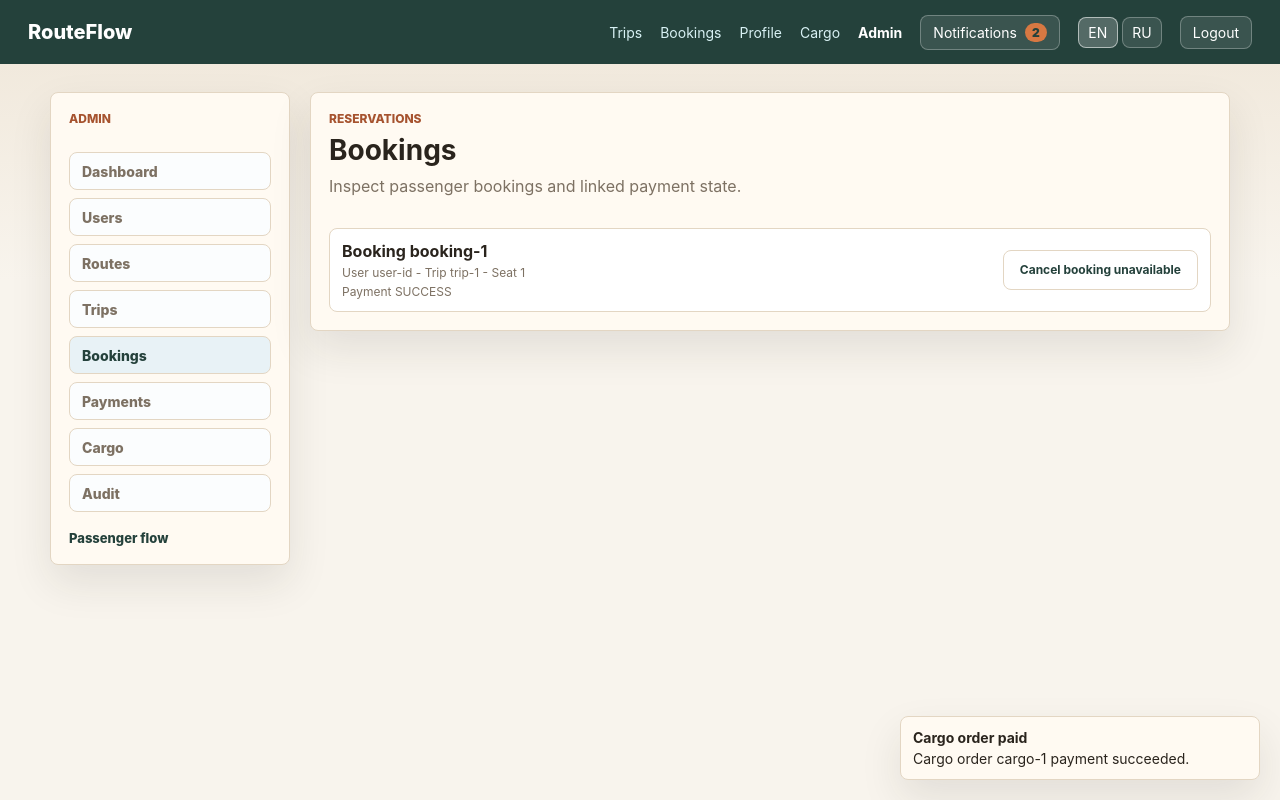
Scenario: App routes › shows admin bookings, payments, cargo, and audit sections
Expected: the heading "Bookings" is shown, [329,133,456,167]
Expected: the text "Booking booking-1" is shown, [342,241,488,261]
Click the link "Payments" at (170, 401), box [69,382,271,420]
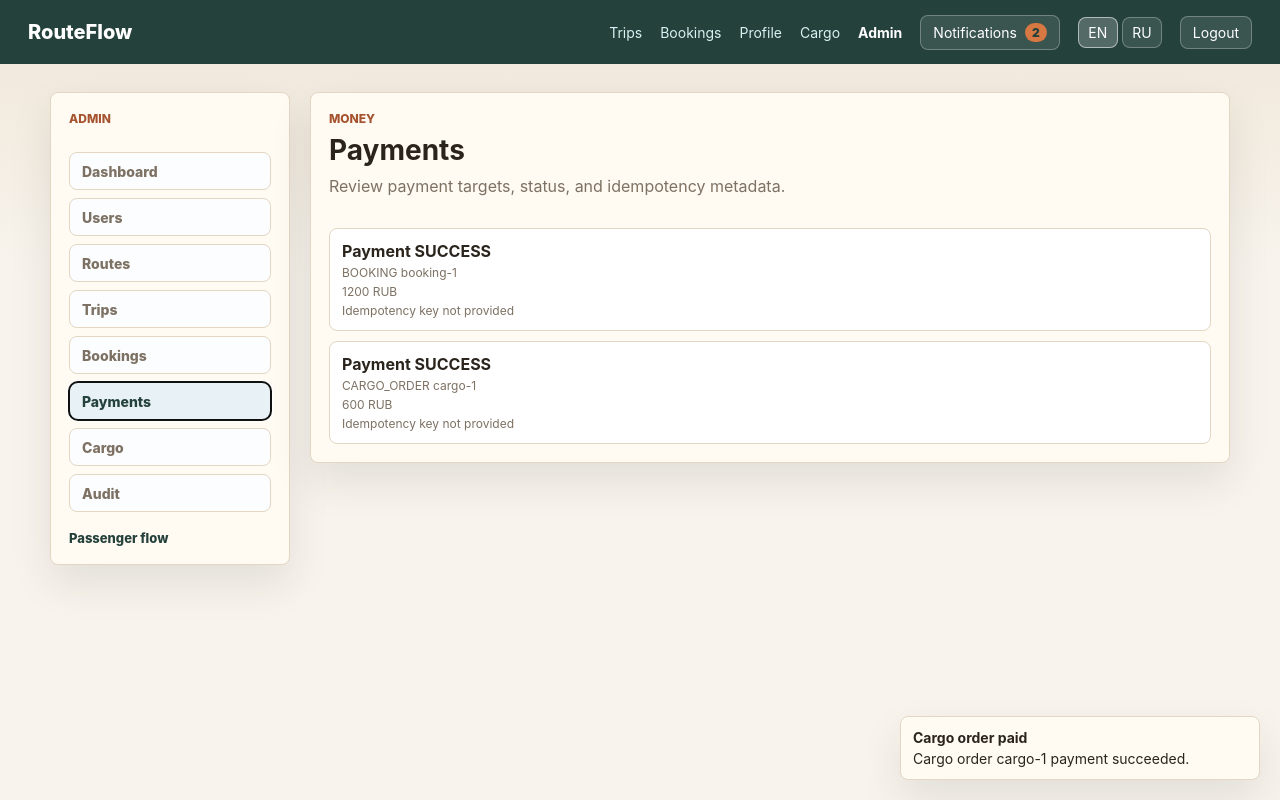
Expected: the heading "Payments" is shown, [329,133,465,167]
Click the link "Cargo" below "Routes" at (170, 447), box [69,428,271,466]
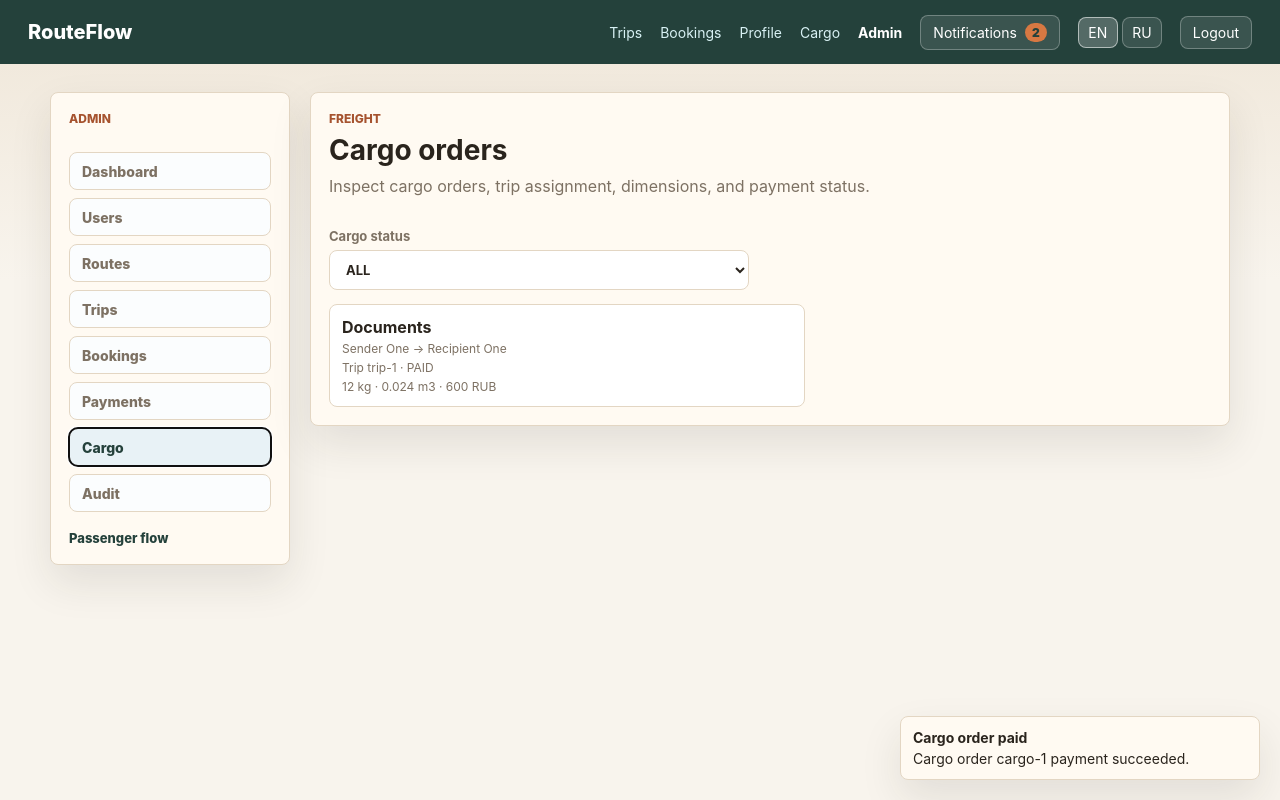
Expected: the heading "Cargo orders" is shown, [329,133,508,167]
Expected: the dropdown labelled "Cargo status" is shown
Select "PAID" in the dropdown labelled "Cargo status" at (539, 270), box [329,250,749,290]
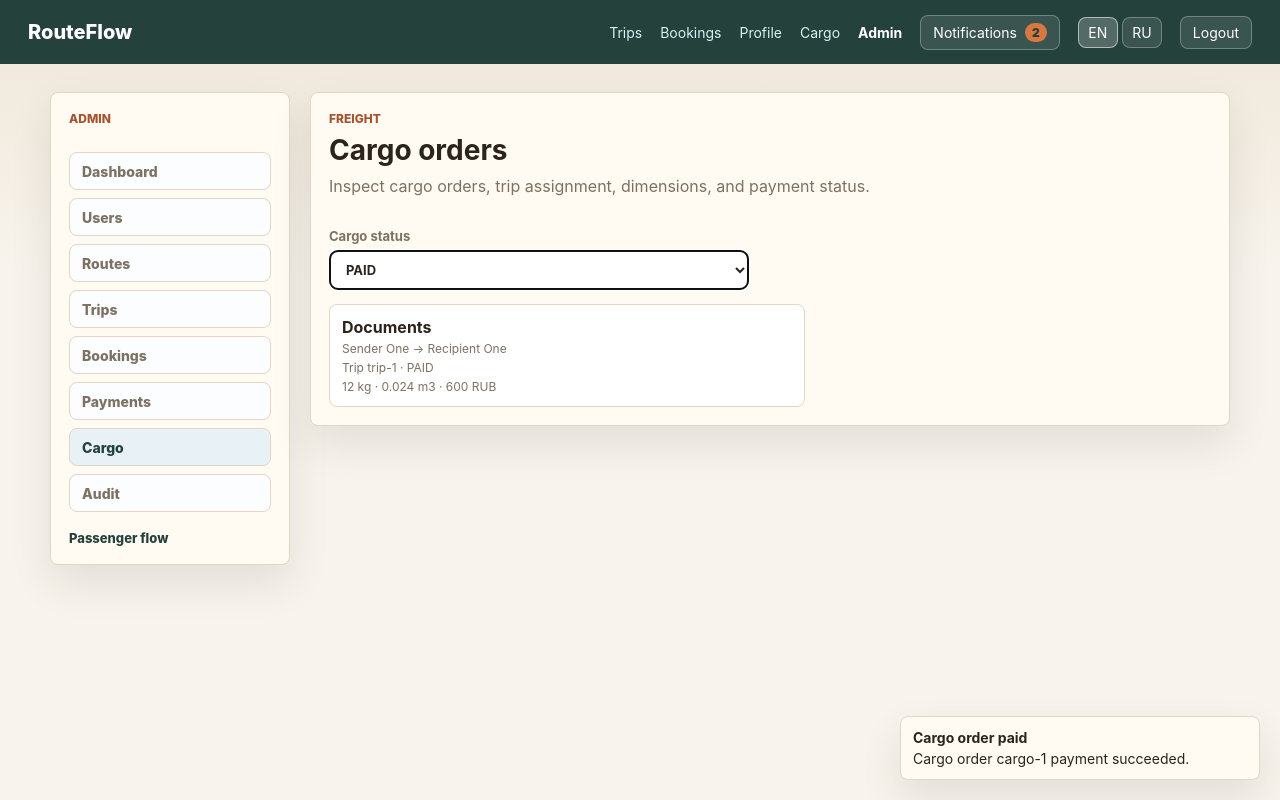
Expected: the text "Sender One -> Recipient One" is shown, [342,341,507,356]
Click the button with aria-label "Documents cargo-1" at (387, 327), box [329,304,805,407]
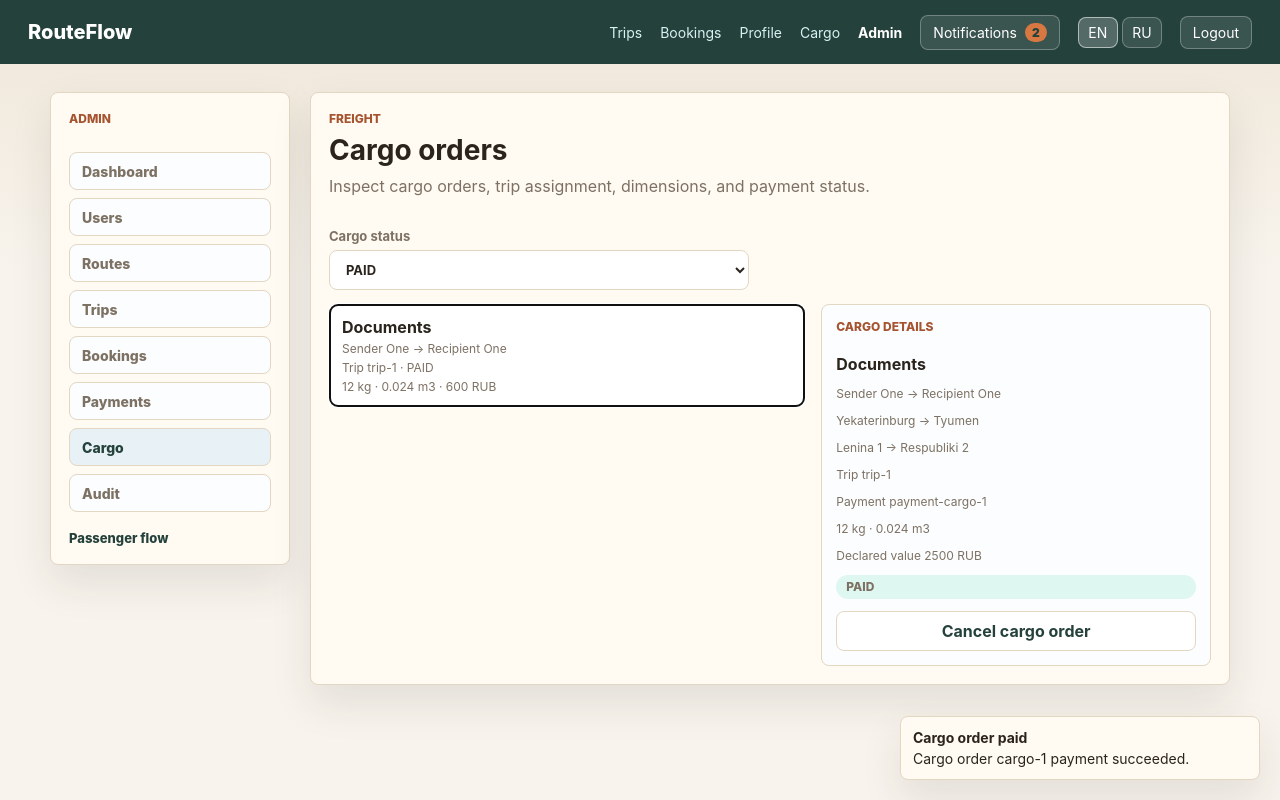
Expected: the text "Lenina 1 -> Respubliki 2" is shown, [836,440,969,455]
Click the button "Cancel cargo order" at (1016, 631), box [836,611,1196,651]
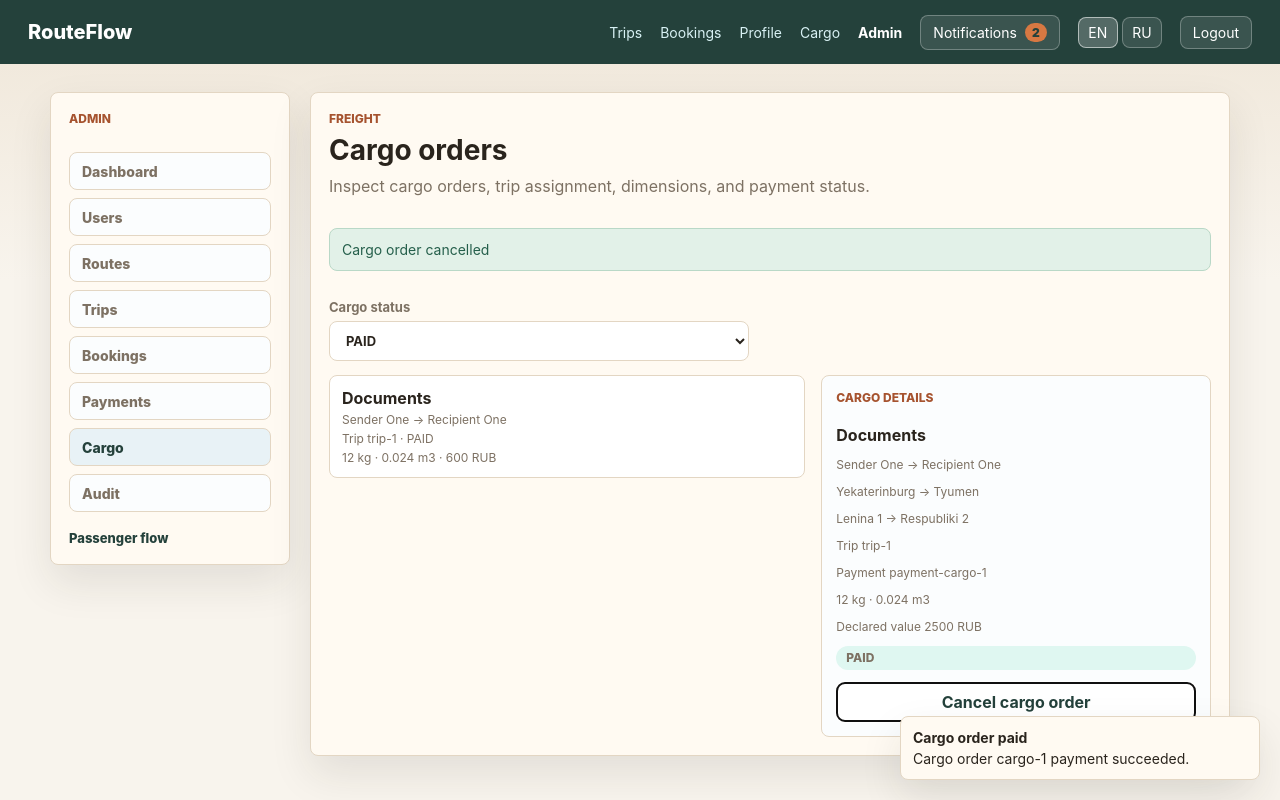
Expected: the text "Cargo order cancelled" is shown, [329,228,1211,271]
Click the link "Audit" at (170, 493), box [69,474,271,512]
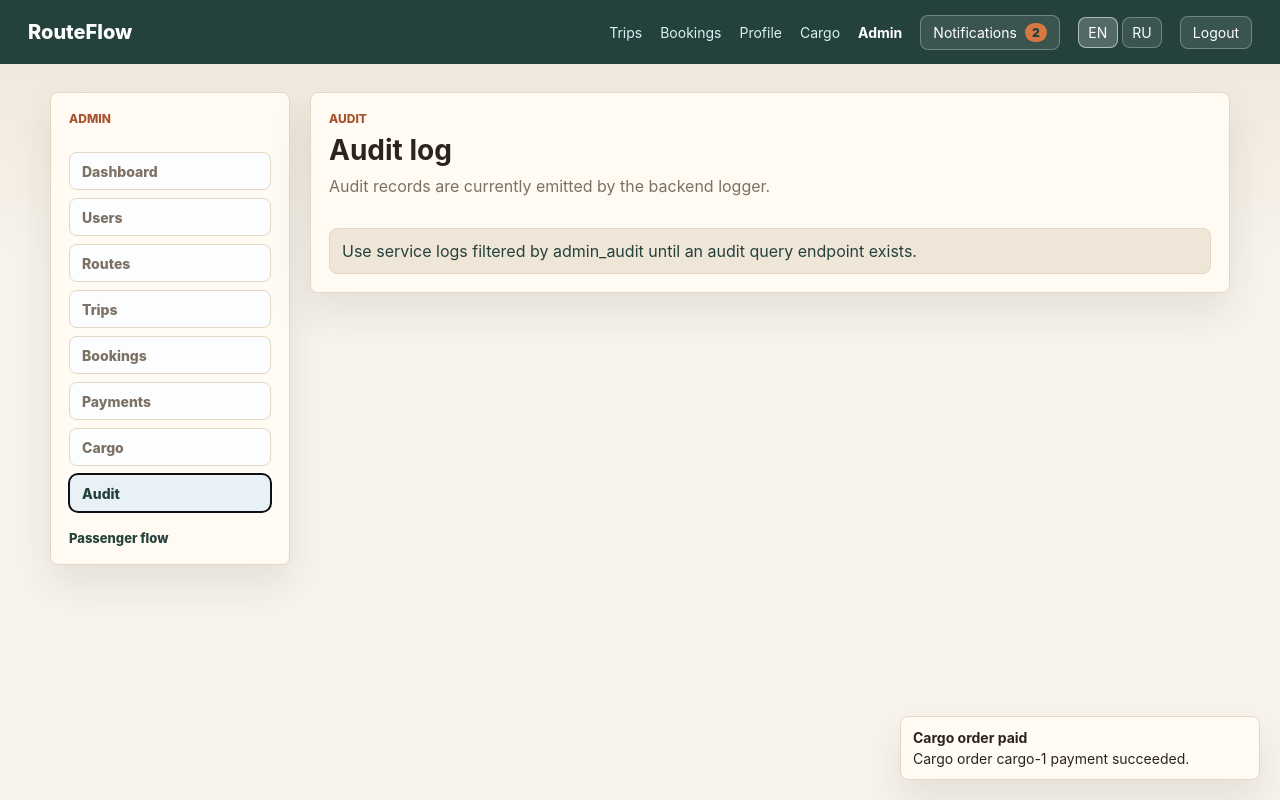
Expected: the heading "Audit log" is shown, [329,133,452,167]
Expected: the text "Use service logs filtered by admin_audit until an audit query endpoint exists." is shown, [329,228,1211,274]
